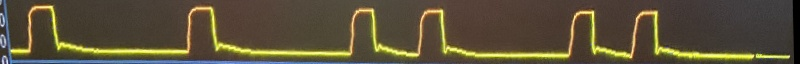normal_pressure: (6, 1, 754, 64)
